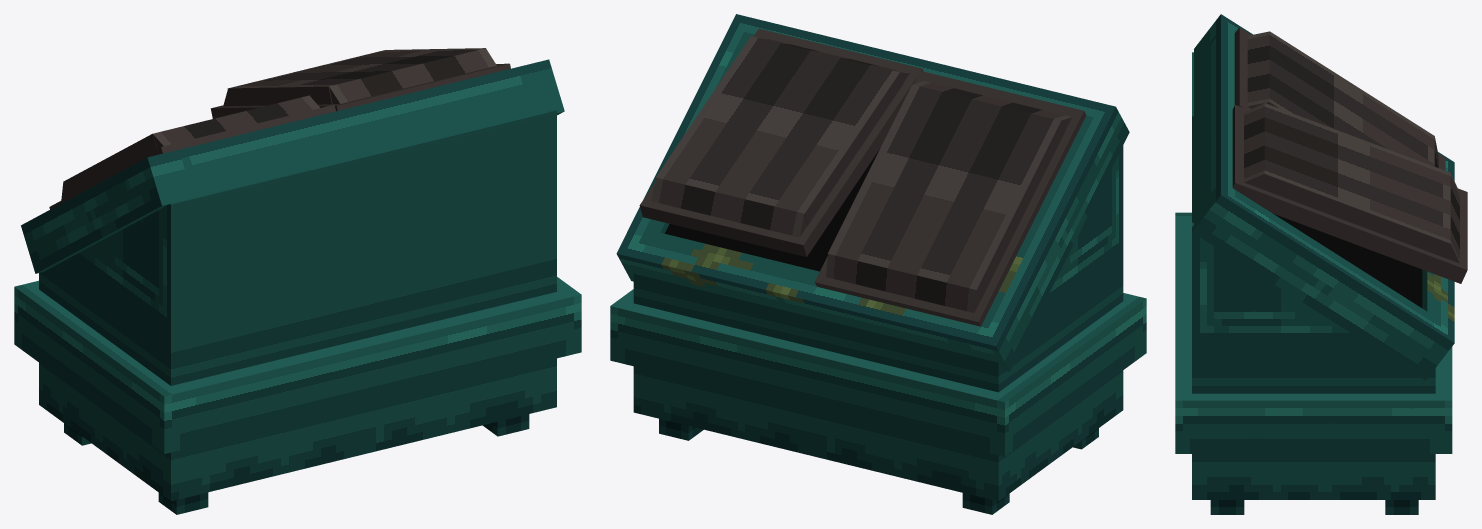
File: bak.gltf
3 views of the same model, side by side, from view 1: azimuth 30°, elevation 25°; view 2: azimuth 150°, elevation 25°; view 3: azimuth 270°, elevation 25° (orthographic). The views are drawn at different scales.
Visible parts, largest first — view 1: cube (×13); view 2: cube (×16); view 3: cube (×17).
Part boxes in pixels (x1=…): cube (×13): x1=14, y1=48, x2=581, y2=514; cube (×16): x1=610, y1=14, x2=1146, y2=514; cube (×17): x1=1175, y1=14, x2=1467, y2=514.
Size of the model in its own units: 4.14 by 3.44 by 2.72.
1 material, 1 textured.
